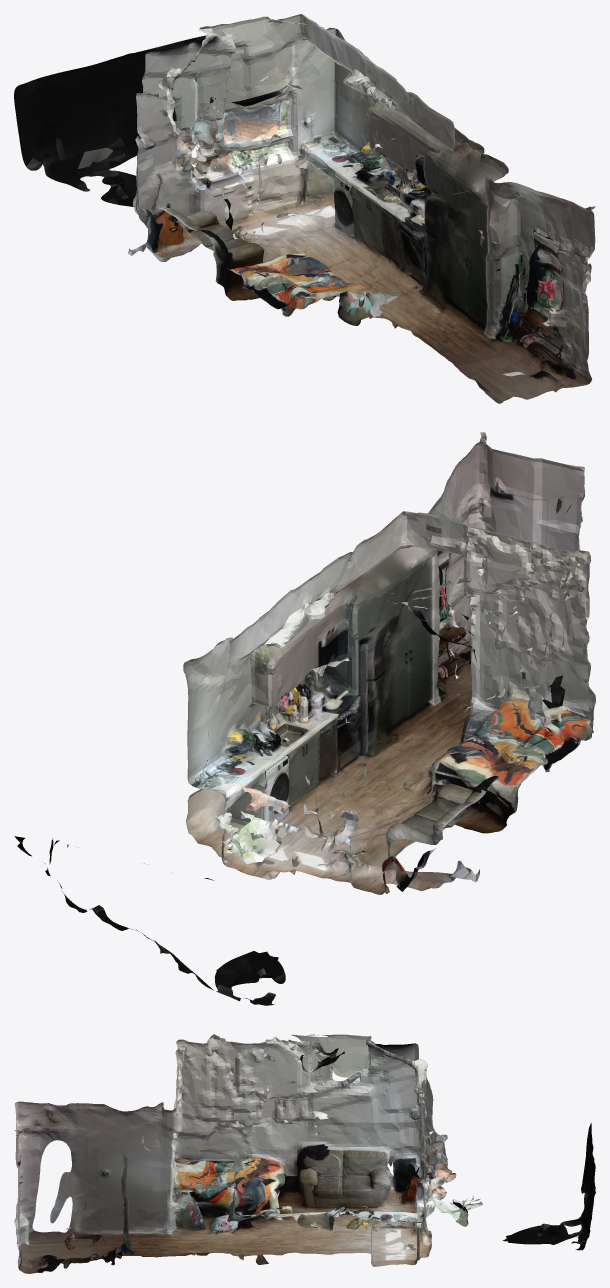
File: desk.glb
The picture shows the model from 3 angles, top to bottom: view 1: azimuth 30°, elevation 25°; view 2: azimuth 150°, elevation 25°; view 3: azimuth 270°, elevation 25°; orthographic projection. The views are drawn at different scales.
Bounding box in the file's own units: 4.87 × 3.84 × 11.24.
Materials: 3 (3 with a texture image).
